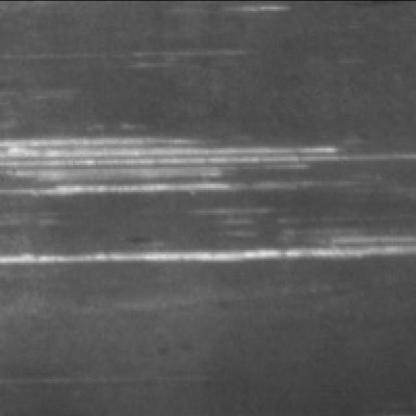scratches: (0, 124, 343, 200), (0, 224, 410, 266)
